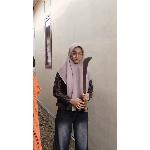Golok: (78, 54, 95, 115)
